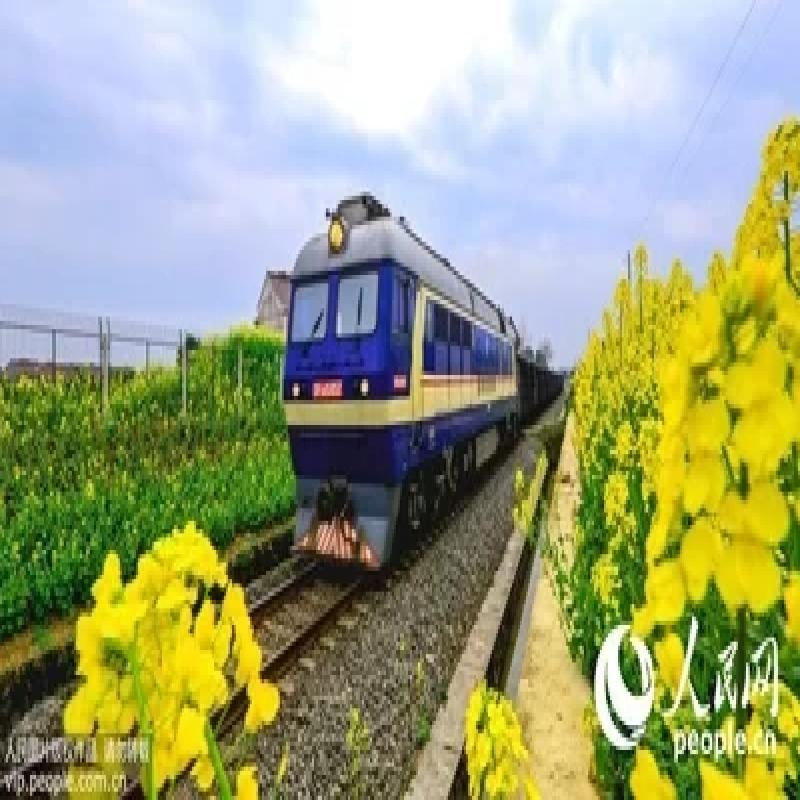train: (279, 180, 523, 572)
